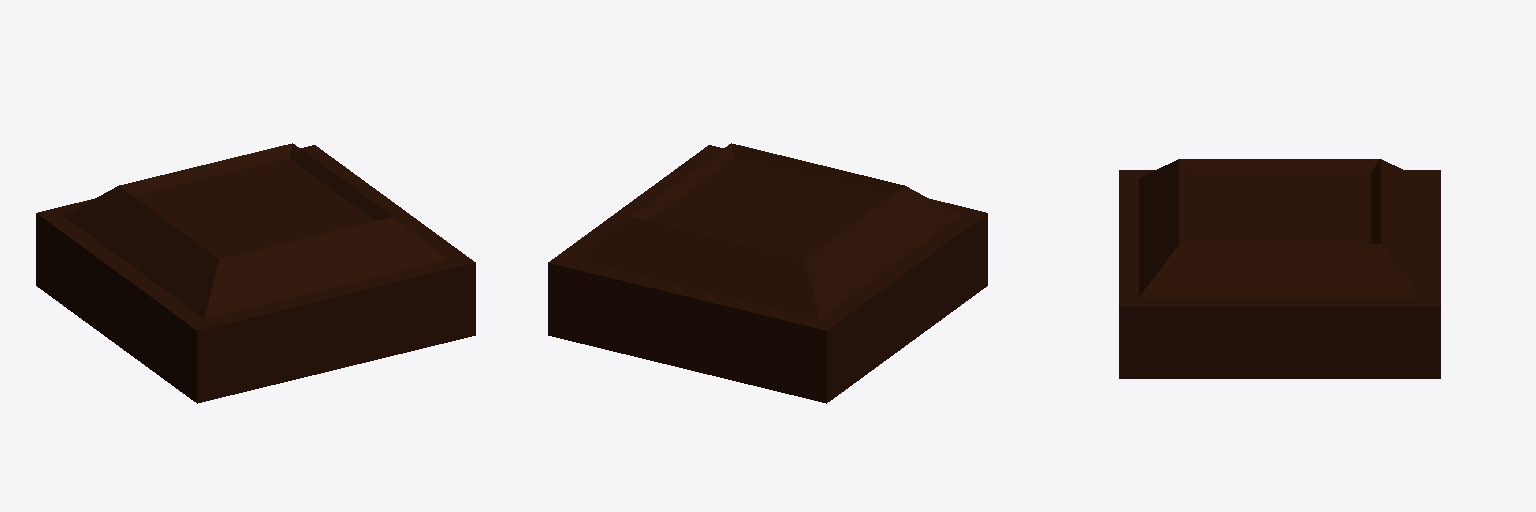
Rendered from MilkChocolate.obj.
3 views of the same model, side by side, from view 1: azimuth 30°, elevation 25°; view 2: azimuth 150°, elevation 25°; view 3: azimuth 270°, elevation 25° (orthographic).
Visible parts, largest first — view 1: Union1; view 2: Union1; view 3: Union1.
Boxes of the visible parts, x1,y1,x2,y2 form: Union1: [36, 143, 475, 403]; Union1: [548, 143, 987, 403]; Union1: [1119, 159, 1440, 378].
Bounding box in the file's own units: 4 × 1.5 × 4.